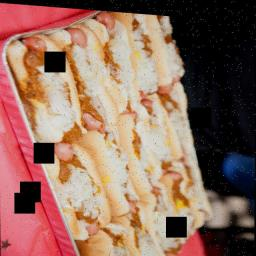hotdog: (0, 0, 216, 256)
